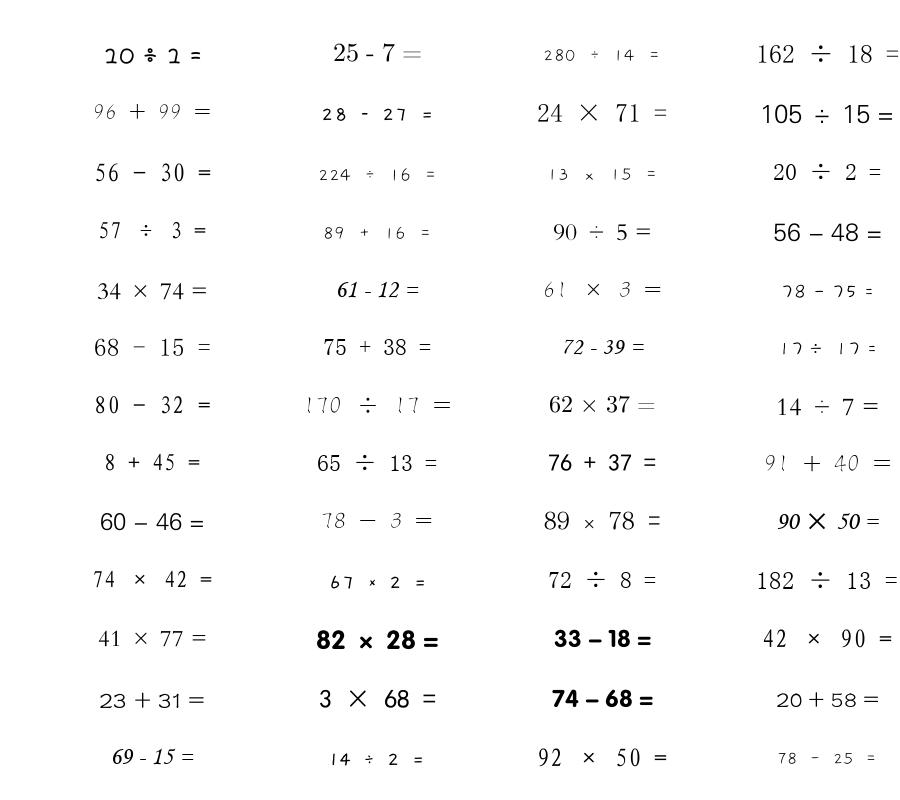MQ: (756, 44, 899, 63), (760, 104, 894, 124), (756, 571, 898, 589), (303, 397, 451, 414), (537, 103, 667, 122), (762, 629, 892, 648), (537, 748, 667, 767), (316, 630, 439, 650), (764, 454, 891, 472), (94, 163, 211, 182), (544, 511, 661, 530), (319, 689, 436, 708), (92, 570, 212, 588), (94, 338, 211, 356), (94, 396, 211, 414), (773, 223, 882, 242), (317, 454, 437, 471), (543, 281, 662, 298), (100, 512, 205, 531), (98, 221, 206, 239), (549, 395, 656, 413), (552, 689, 653, 708), (321, 512, 433, 529), (97, 283, 208, 300), (776, 398, 879, 416), (98, 630, 207, 647), (554, 629, 651, 648), (773, 163, 881, 180), (548, 454, 656, 471), (548, 571, 656, 588), (99, 692, 205, 709), (93, 104, 211, 119), (776, 513, 879, 530), (776, 691, 879, 708), (323, 339, 431, 355), (104, 453, 200, 471), (333, 43, 422, 62), (553, 224, 652, 241), (318, 168, 437, 182), (103, 48, 202, 64), (543, 49, 661, 62), (323, 226, 432, 240), (321, 108, 434, 121), (547, 168, 658, 181), (335, 281, 419, 298), (110, 748, 194, 765), (781, 284, 874, 299), (778, 342, 877, 356), (328, 575, 427, 589), (561, 339, 644, 355), (777, 752, 877, 765), (330, 753, 425, 766)
